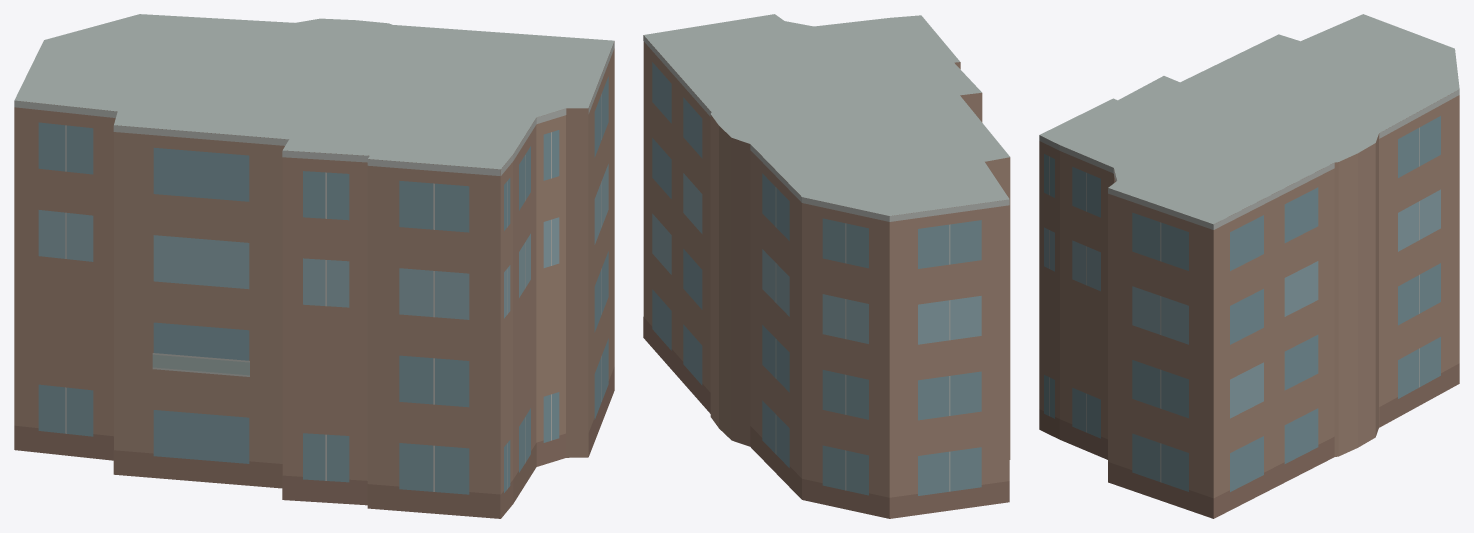
Rendered from survey-upis-32922716.glb.
3 views of the same model, side by side, from view 1: azimuth 30°, elevation 25°; view 2: azimuth 150°, elevation 25°; view 3: azimuth 270°, elevation 25° (orthographic). The views are drawn at different scales.
Parts seen in each view (by area): view 1: survey-upis-32922716.tmp; view 2: survey-upis-32922716.tmp; view 3: survey-upis-32922716.tmp.
Boxes of the visible parts, left/top/right/bottom form: survey-upis-32922716.tmp: left=14, top=14, right=614, bottom=518; survey-upis-32922716.tmp: left=643, top=14, right=1010, bottom=518; survey-upis-32922716.tmp: left=1039, top=14, right=1459, bottom=518.
Size of the model in its own units: 19.15 by 12.5 by 16.18.
